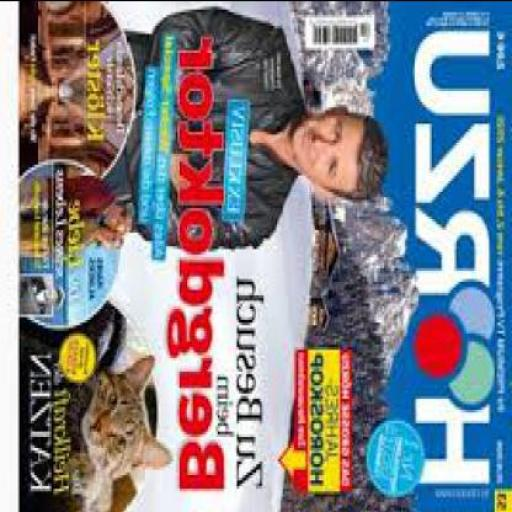paper: (18, 0, 512, 511)
